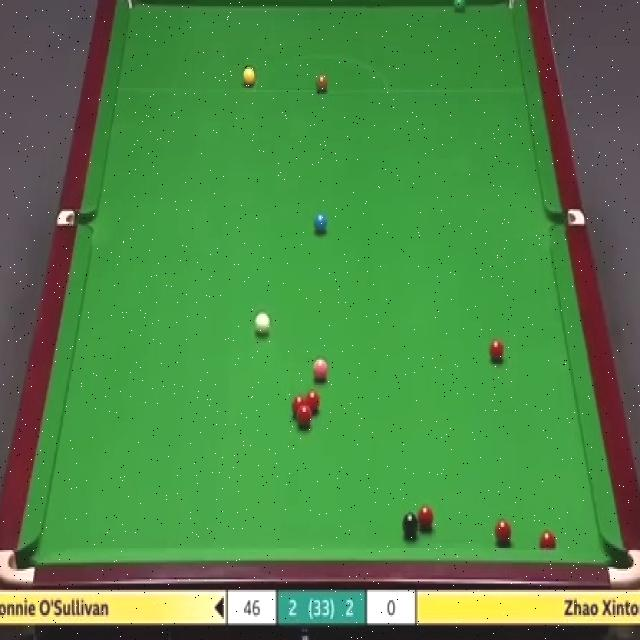black-ball: (402, 510, 418, 540)
blue-ball: (315, 214, 329, 236)
brown-ball: (315, 71, 328, 92)
green-ball: (450, 0, 465, 8)
pink-ball: (312, 357, 330, 385)
red-ball: (494, 517, 513, 542), (489, 338, 506, 363), (298, 403, 312, 432), (418, 504, 432, 530), (539, 530, 557, 549), (306, 387, 320, 411), (293, 392, 306, 416)
white-ball: (253, 310, 272, 340)
yellow-ball: (242, 68, 256, 88)
